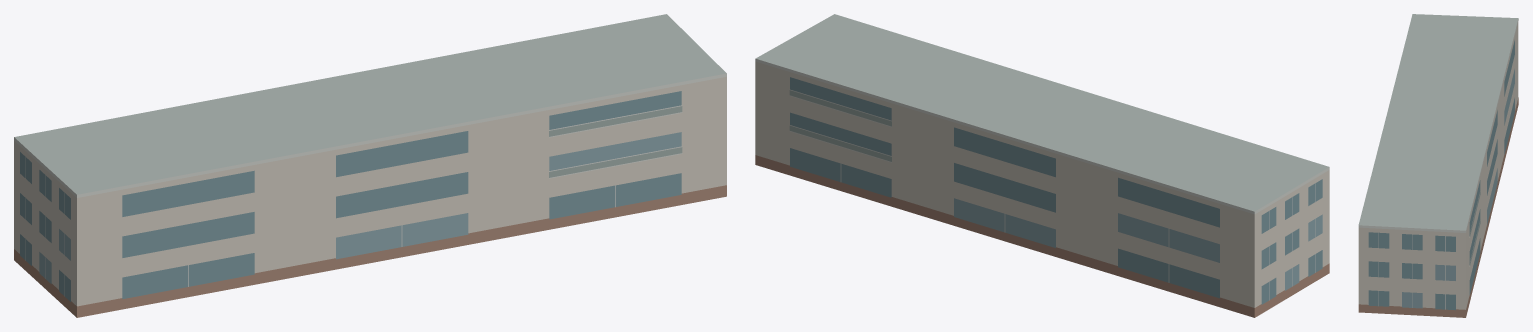
The model's file is survey-upis-32904371.glb.
3 renders of one model, left to right at view 1: azimuth 30°, elevation 25°; view 2: azimuth 150°, elevation 25°; view 3: azimuth 270°, elevation 25°, orthographic. The views are drawn at different scales.
Visible parts, largest first — view 1: survey-upis-32904371.tmp; view 2: survey-upis-32904371.tmp; view 3: survey-upis-32904371.tmp.
Part boxes in pixels (x1=…): survey-upis-32904371.tmp: x1=14, y1=14, x2=726, y2=317; survey-upis-32904371.tmp: x1=755, y1=14, x2=1329, y2=317; survey-upis-32904371.tmp: x1=1358, y1=14, x2=1518, y2=317.
Size of the model in its own units: 48.82 by 9.15 by 15.23.
